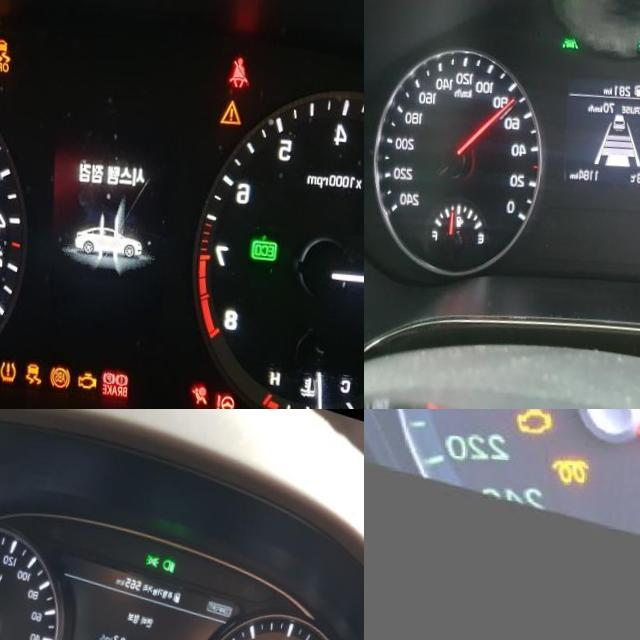Central Warning lamp: (223, 90, 246, 117)
Low beam: (164, 551, 180, 568)
SideLamp: (147, 546, 165, 563)
